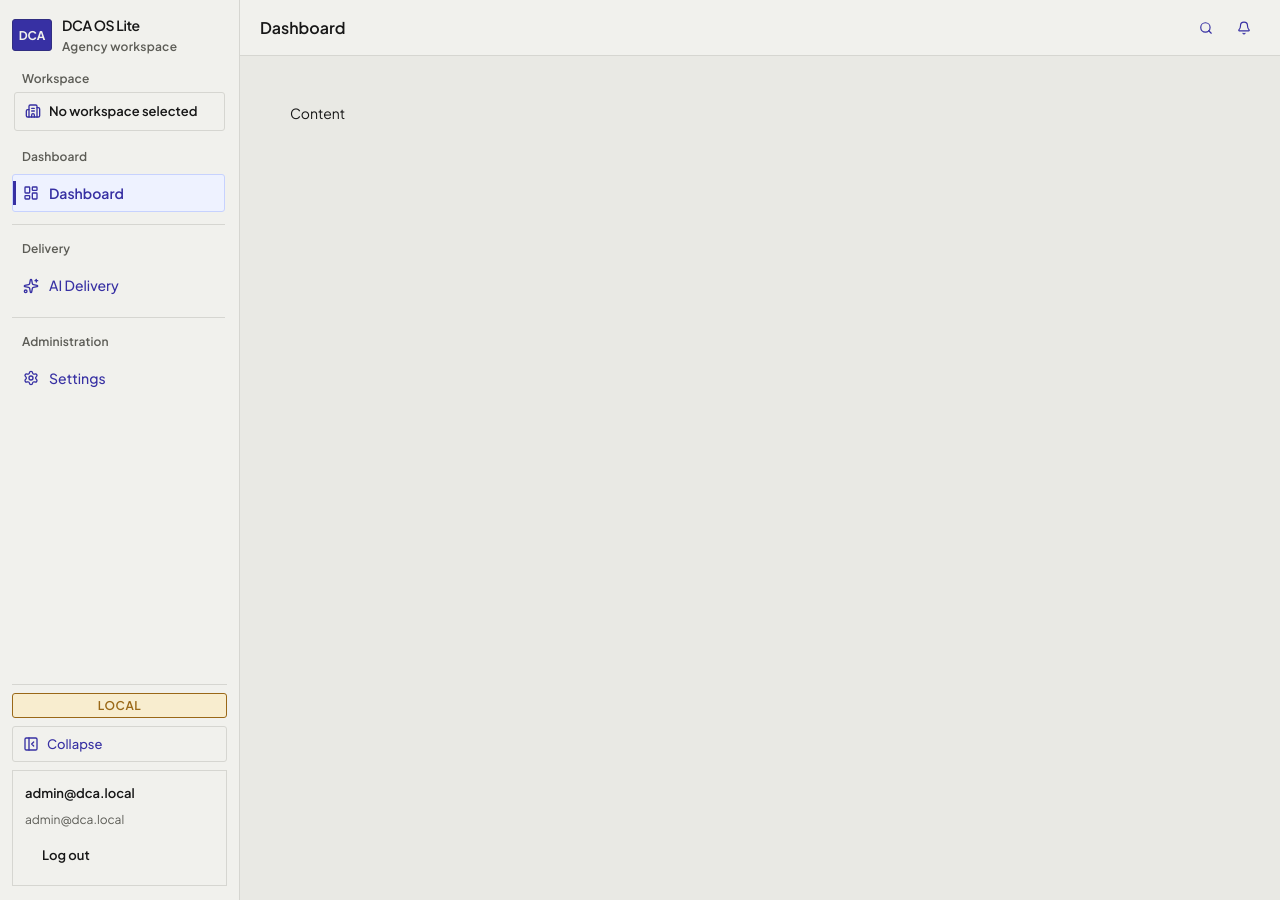
Scenario: AppLayout public contract › locks scroll while overlays are open and restores on close
The image size is (1280, 900).
Click the button named "Open search". click: (1206, 28)
box: [1190,12,1222,44]
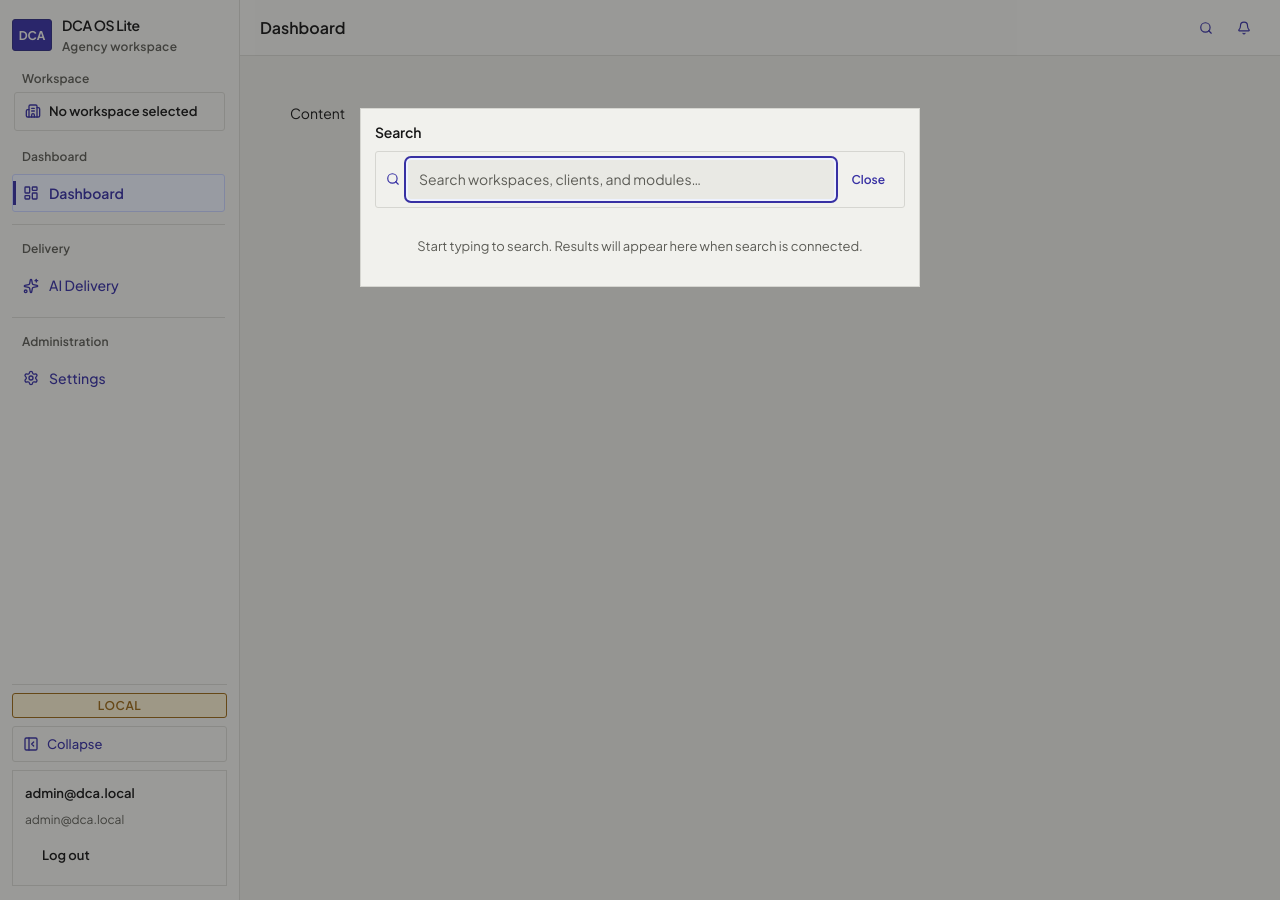
Press Escape
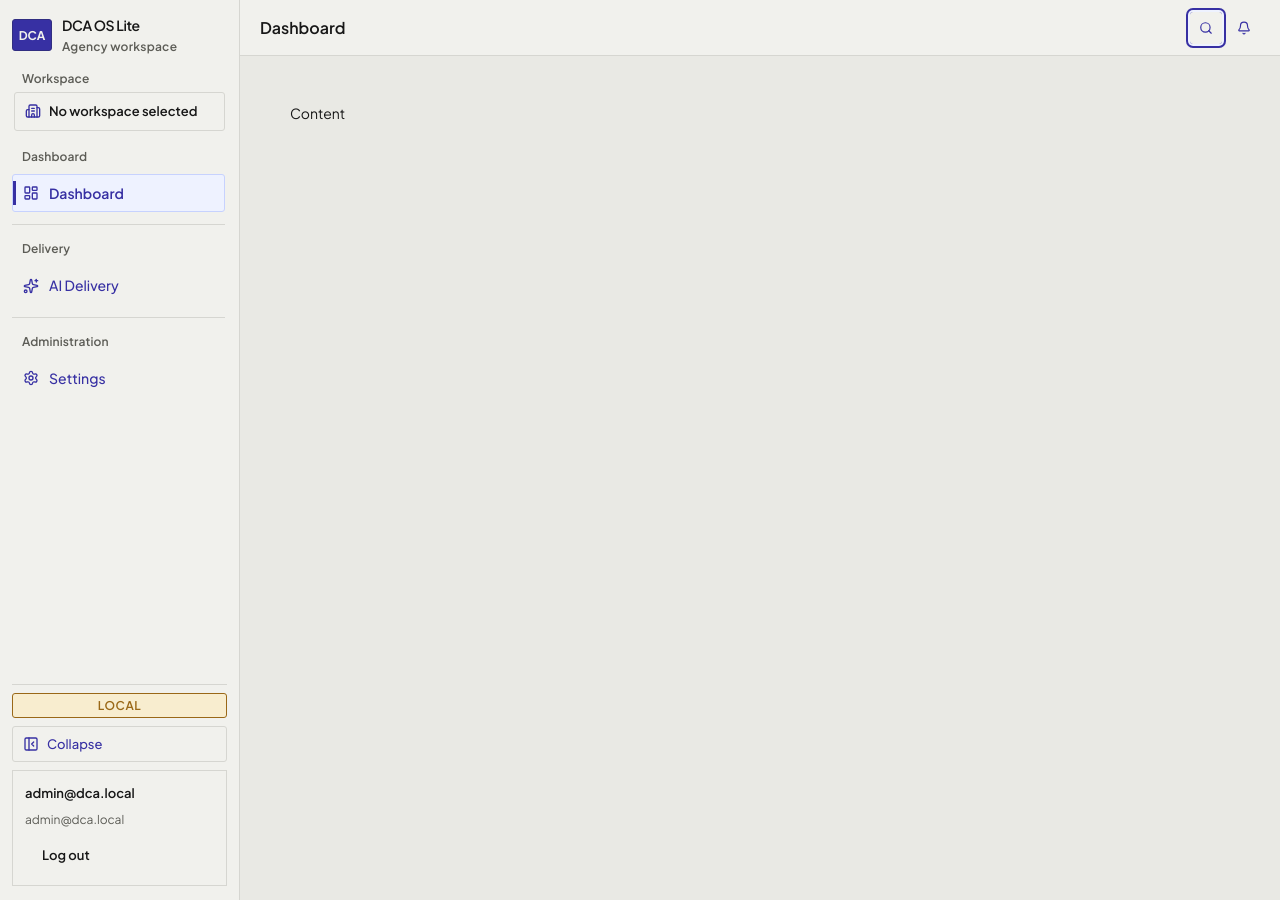
expect the heading "Search" is gone: met
